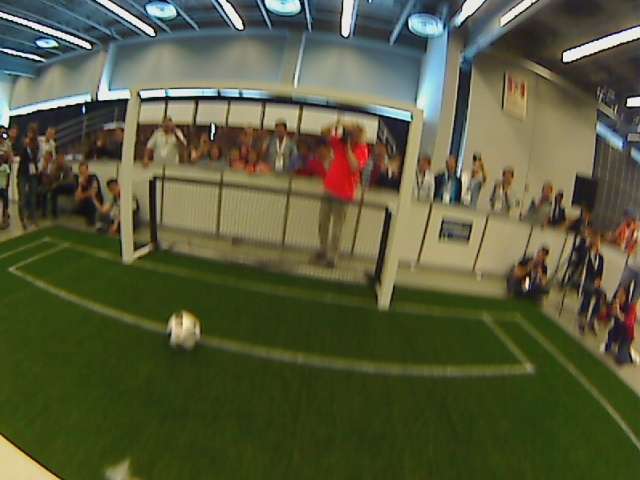ball: (162, 308, 204, 354)
